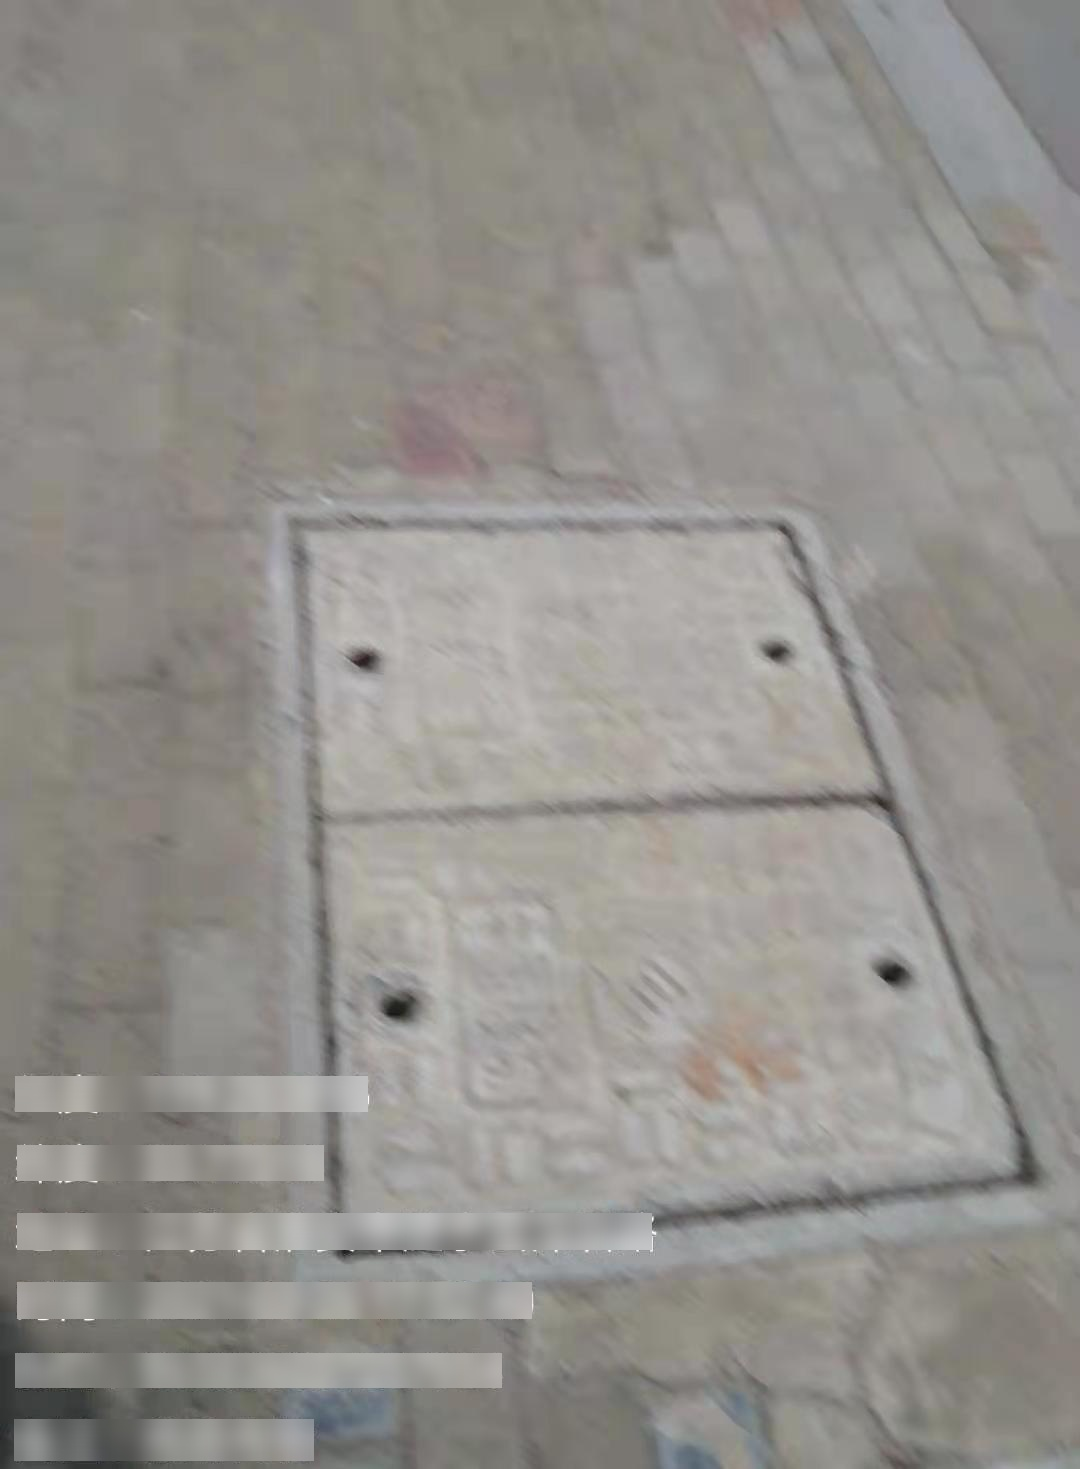good: (269, 496, 1079, 1296)
